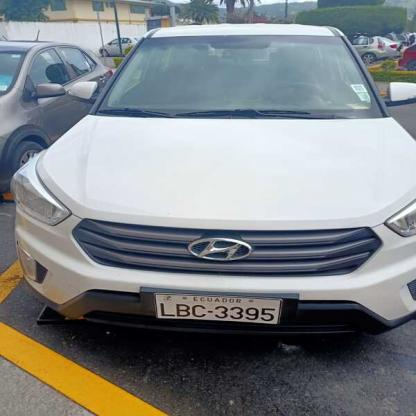Placa: (156, 288, 282, 328)
